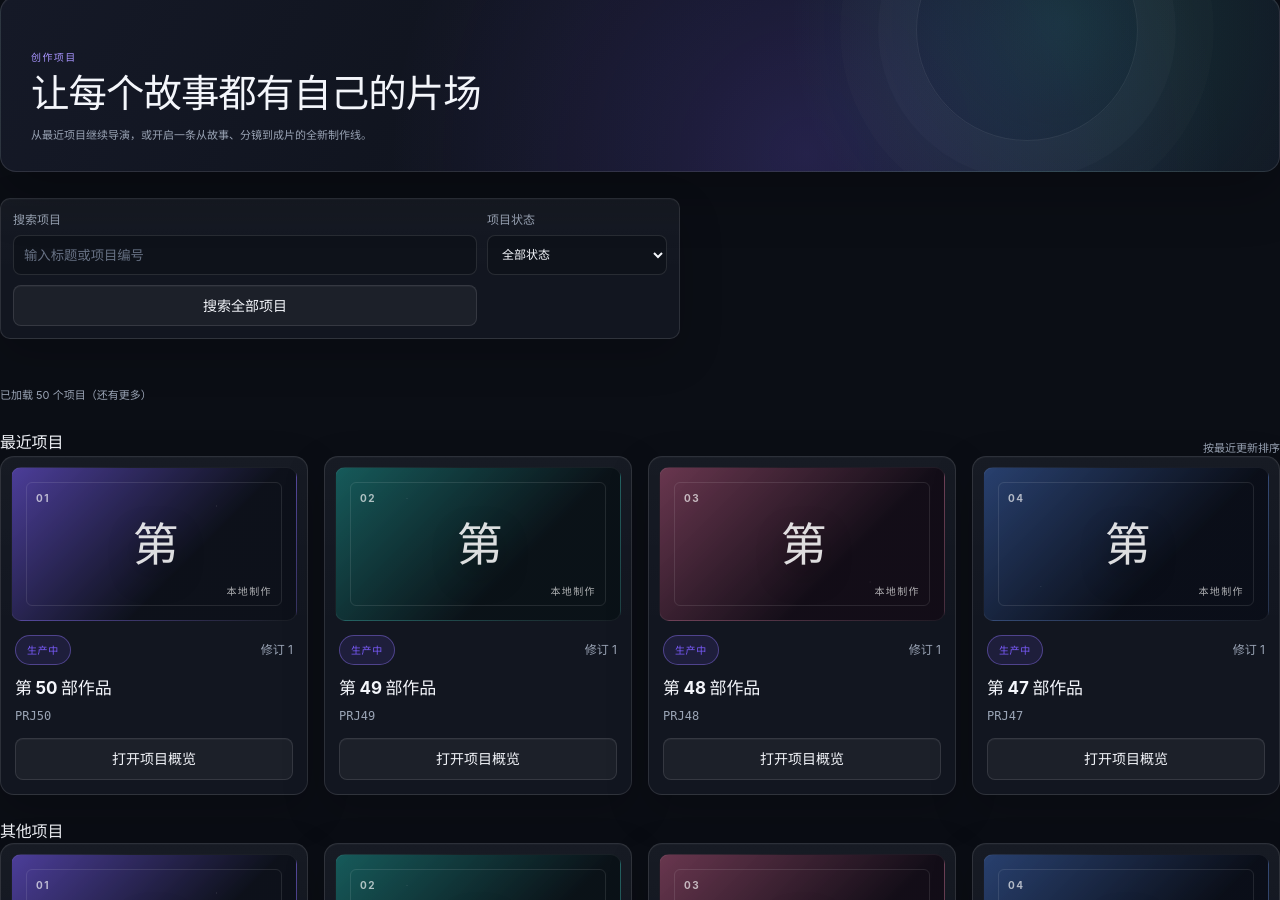
Test: ProjectsPage recent projects › searches on the server instead of filtering only the loaded page
Project 101 is outside page 1, so a local filter could never find it.
Type "第 101 部作品" into the field labelled "搜索项目" at (245, 255), box [13, 235, 477, 275]
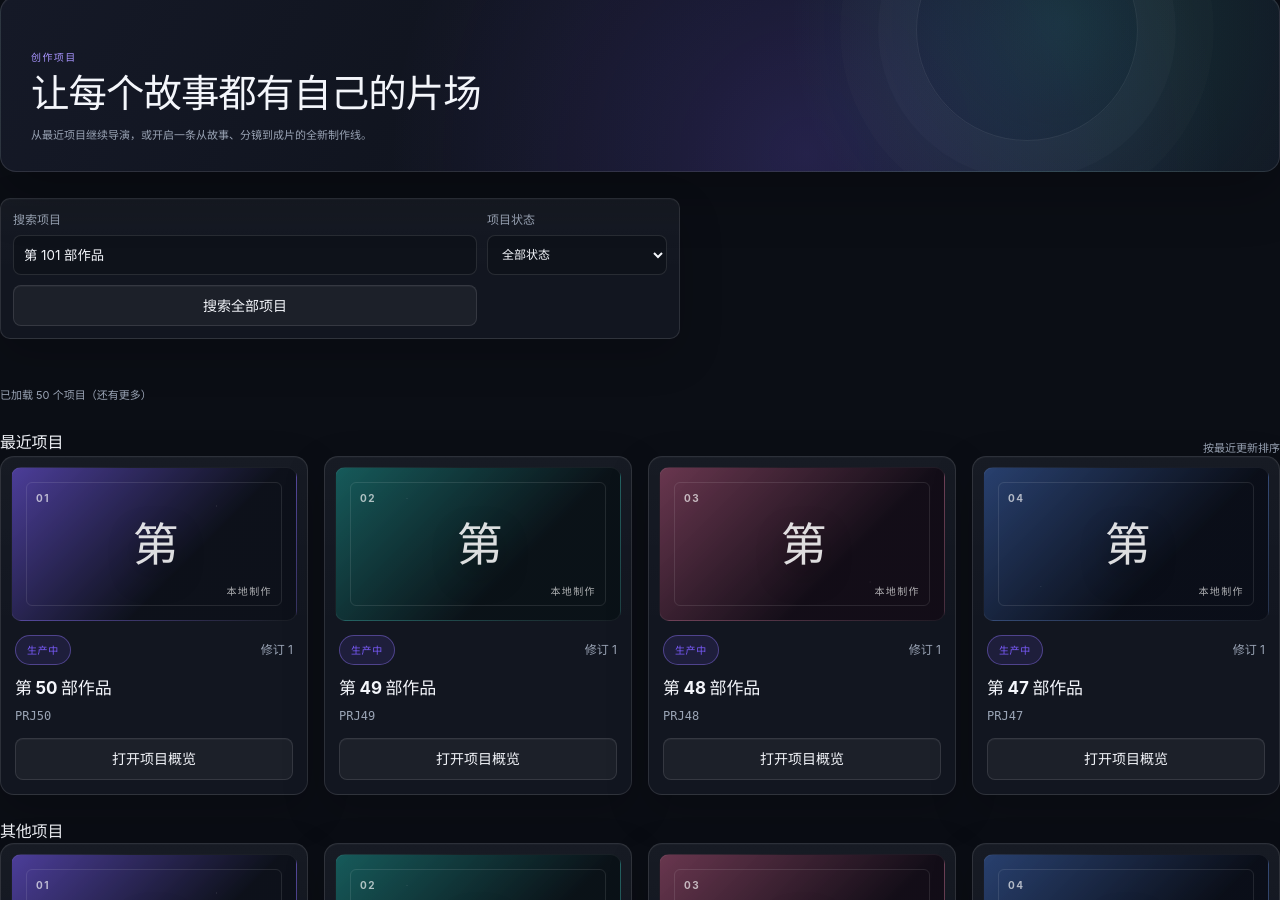
Click the button "搜索全部项目" at (245, 305), box [13, 285, 477, 326]
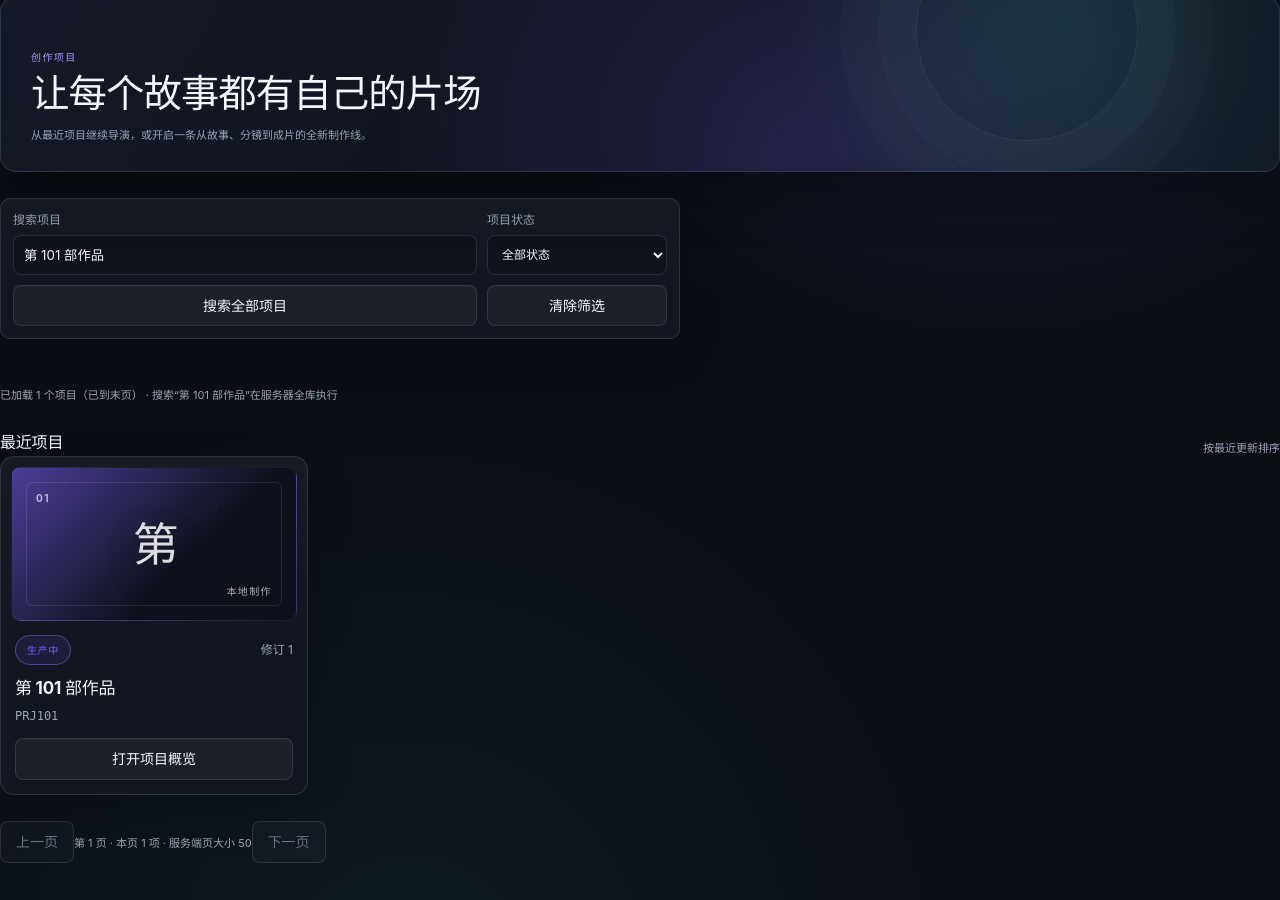
Now the heading "第 101 部作品" is shown, box [15, 678, 115, 698]
